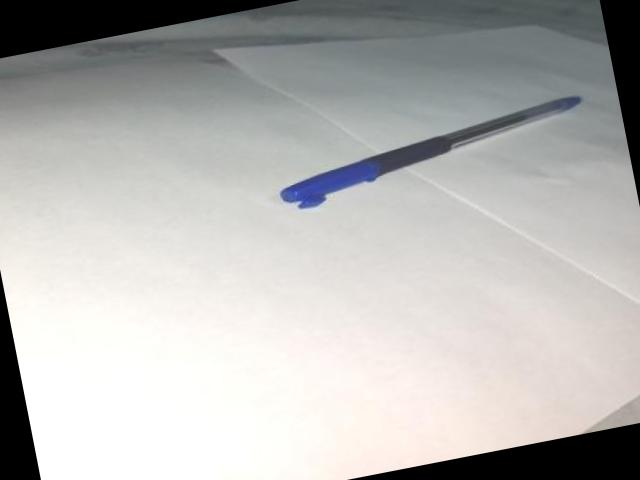PEN: (277, 80, 588, 217)
